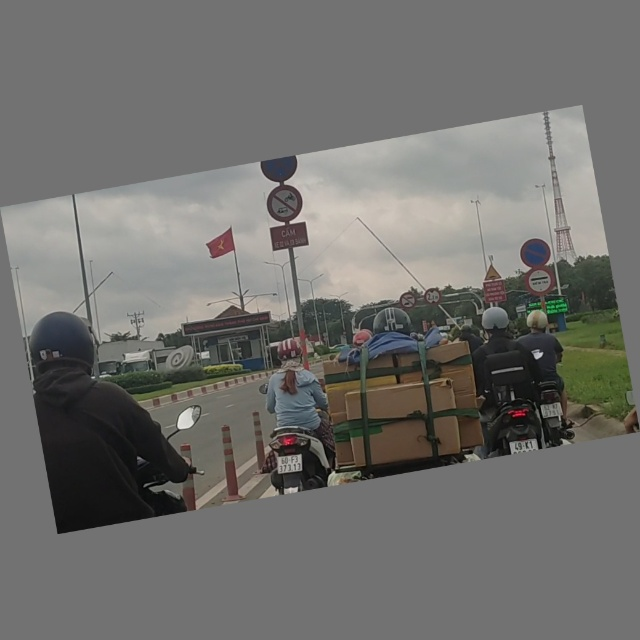P.107: (399, 291, 419, 311)
P.111: (265, 183, 306, 225)
P.117*: (423, 287, 443, 307)
P.129: (524, 266, 558, 299)
P.130: (260, 156, 301, 185)
P.131a: (519, 237, 553, 270)
W.221b: (483, 264, 502, 283)
